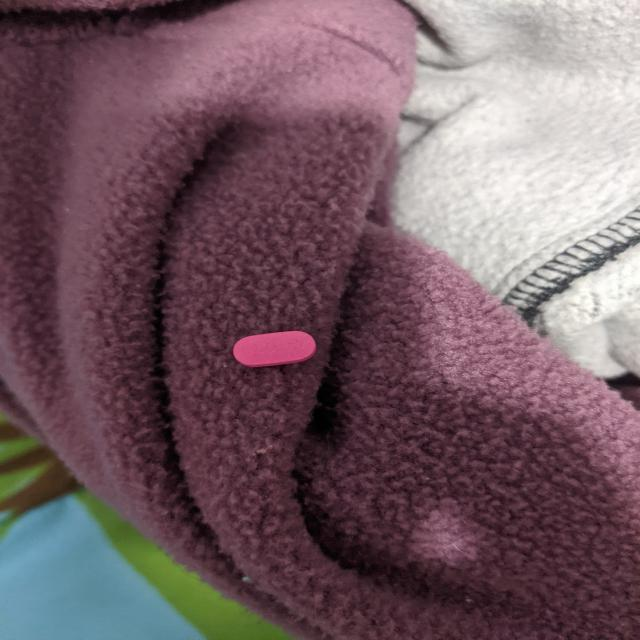non-organic waste: (231, 329, 318, 368)
